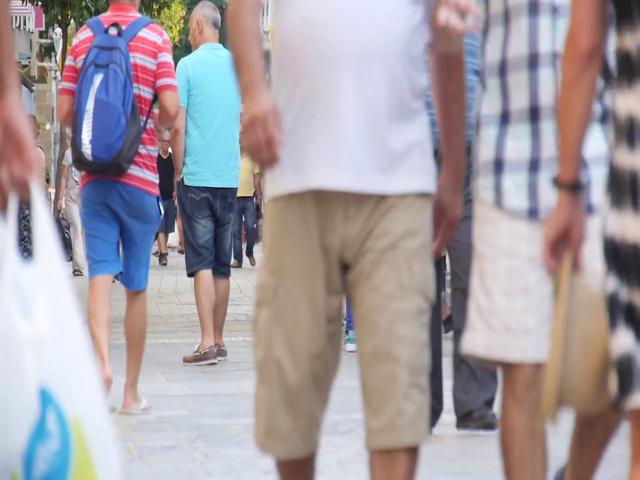shoe: (182, 345, 218, 366), (118, 397, 153, 414)
